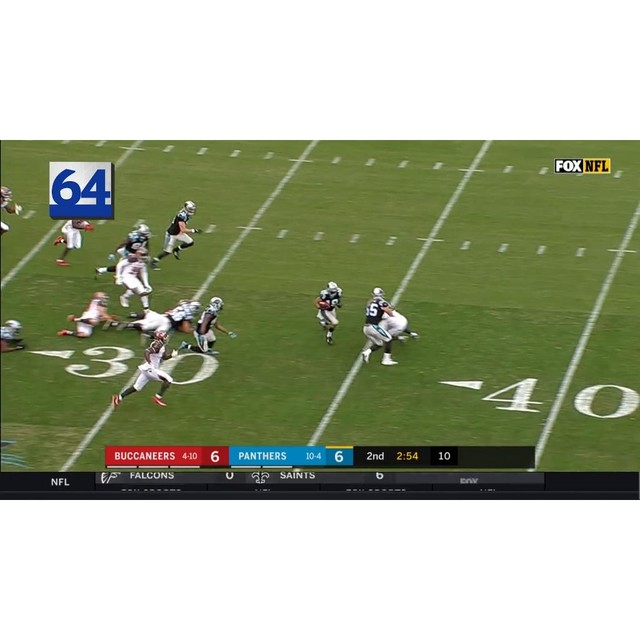american-football-player: (117, 329, 174, 409), (177, 297, 236, 358), (94, 223, 152, 285), (152, 200, 200, 269), (118, 300, 198, 338), (359, 288, 397, 368), (369, 288, 419, 346), (58, 291, 113, 338), (118, 248, 153, 311), (52, 218, 94, 266), (315, 283, 344, 346), (0, 318, 27, 353)
